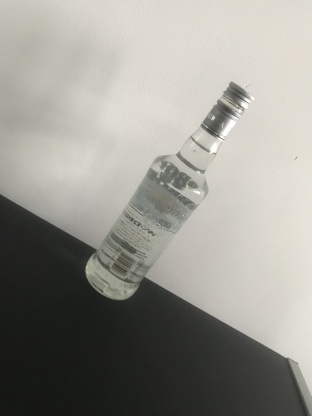nakretka: (199, 79, 255, 144)
